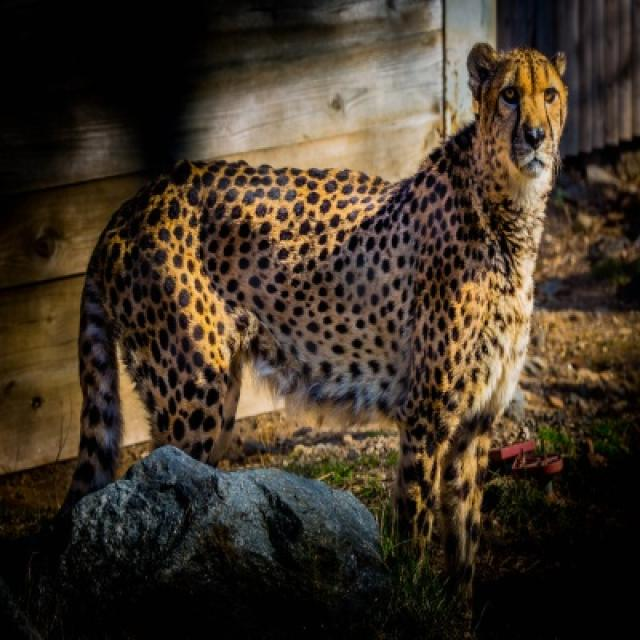Cheetah: (62, 43, 565, 568)
